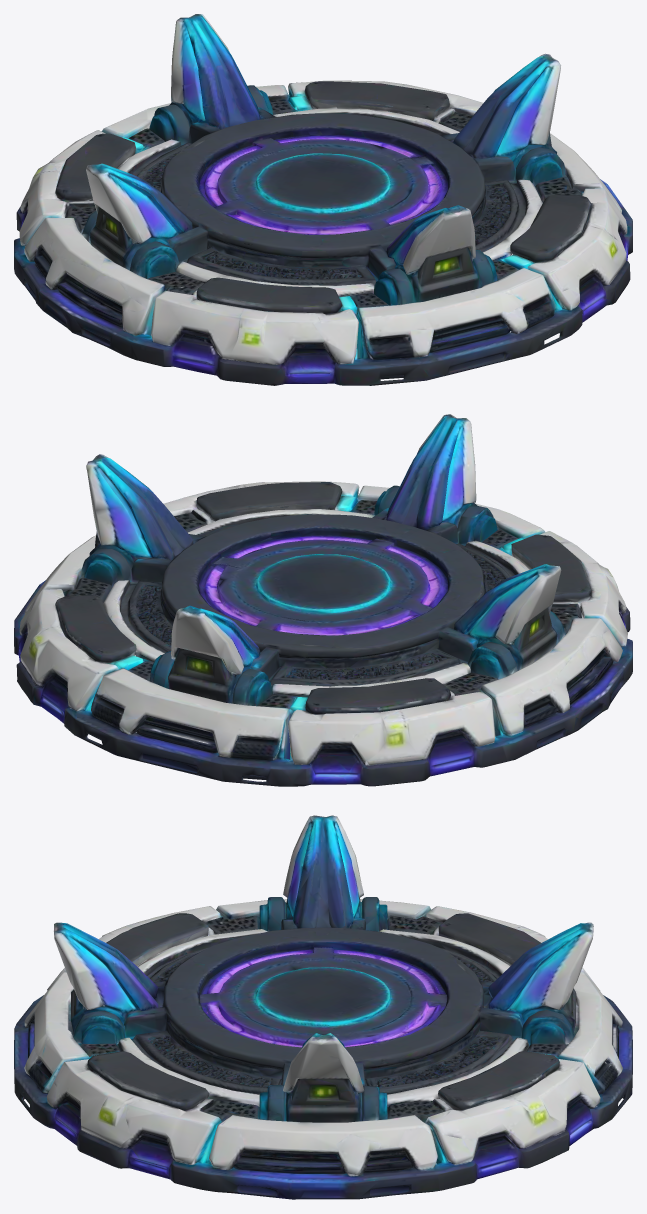
Rendered from model-21-launch-pad.glb.
The picture shows the model from 3 angles, top to bottom: view 1: azimuth 30°, elevation 25°; view 2: azimuth 150°, elevation 25°; view 3: azimuth 270°, elevation 25°; orthographic projection.
Visible parts, largest first — view 1: node_0; view 2: node_0; view 3: node_0.
Boxes of the visible parts, x1=… form: node_0: x1=14, y1=14, x2=632, y2=385; node_0: x1=14, y1=414, x2=632, y2=786; node_0: x1=14, y1=815, x2=632, y2=1199.
Bounding box in the file's own units: 1.15 × 0.2938 × 1.15.
1 material, 1 textured.
